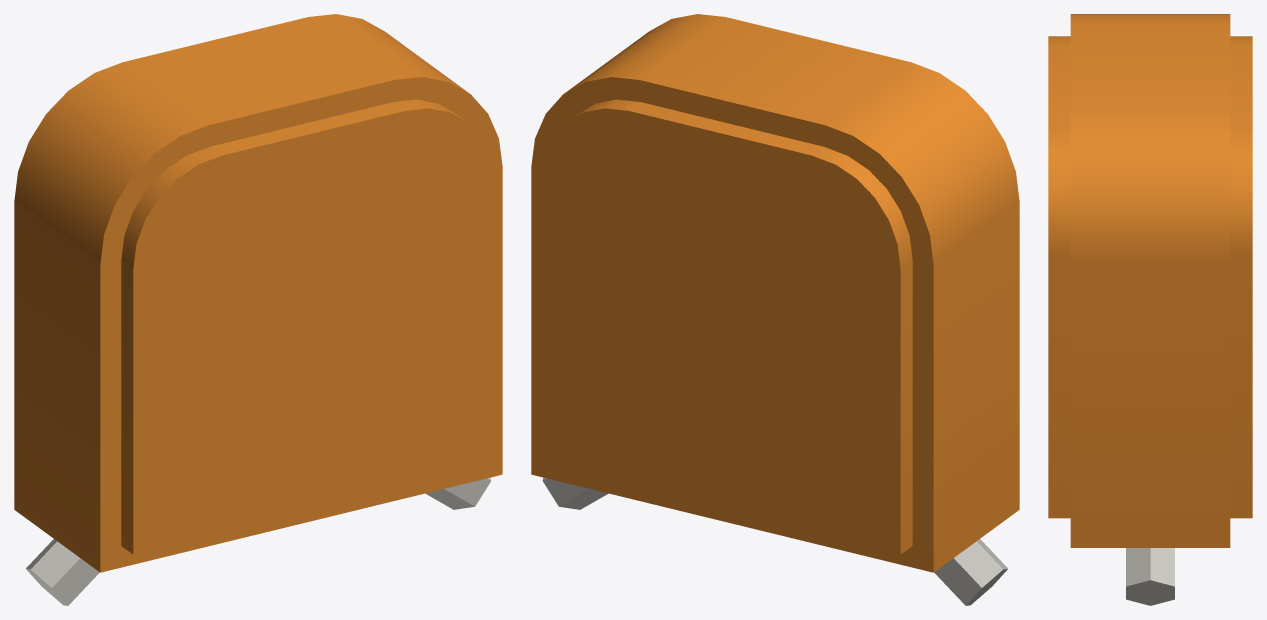
The model's file is ceramic-capacitor.glb.
3 renders of one model, left to right at view 1: azimuth 30°, elevation 25°; view 2: azimuth 150°, elevation 25°; view 3: azimuth 270°, elevation 25°, orthographic. The views are drawn at different scales.
Visible parts, largest first — view 1: body; view 2: body; view 3: body.
Part boxes in pixels (x1,y1,x2,y2): body: (14,14,502,605); body: (531,14,1019,605); body: (1048,14,1252,605).
Size of the model in its own units: 5.47 by 5.58 by 2.29.
